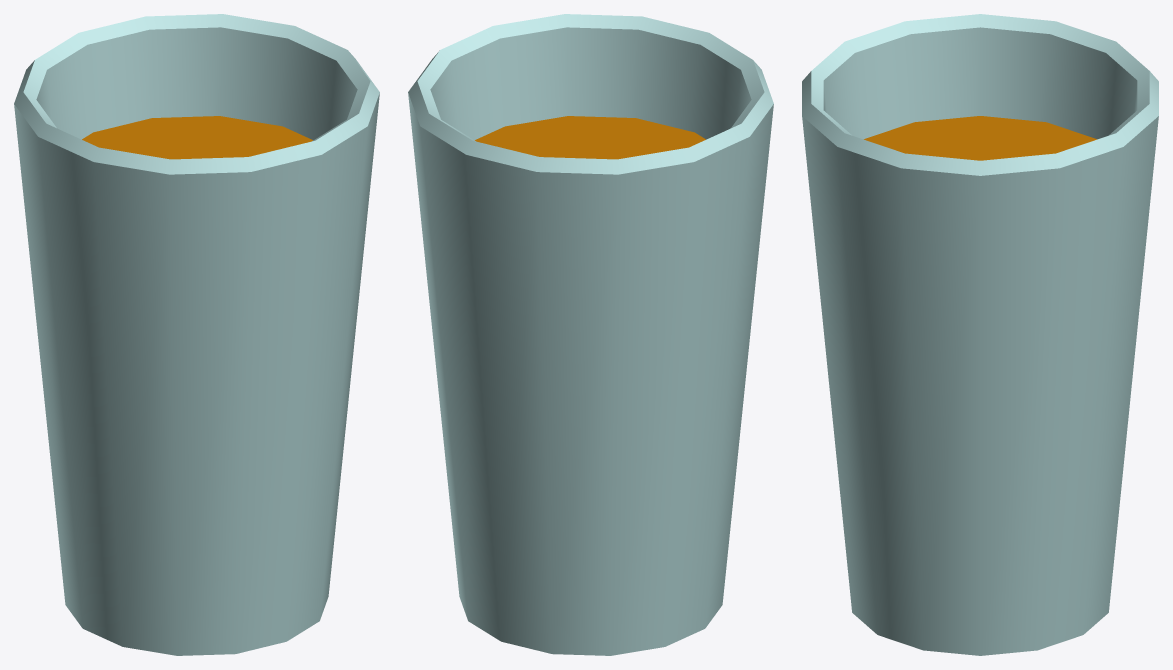
The model's file is prop_vaso_naranja.fbx.
The picture shows the model from 3 angles, left to right: view 1: azimuth 30°, elevation 25°; view 2: azimuth 150°, elevation 25°; view 3: azimuth 270°, elevation 25°; orthographic projection.
Visible parts, largest first — view 1: pCylinder1, pCylinder2; view 2: pCylinder1, pCylinder2; view 3: pCylinder1, pCylinder2.
Boxes of the visible parts, x1,y1,x2,y2 form: pCylinder1: (14, 14, 379, 655); pCylinder2: (82, 116, 312, 159); pCylinder1: (408, 14, 773, 655); pCylinder2: (475, 116, 705, 159); pCylinder1: (802, 14, 1158, 655); pCylinder2: (864, 116, 1096, 160).
Bounding box in the file's own units: 1.74 × 2.69 × 1.69.
